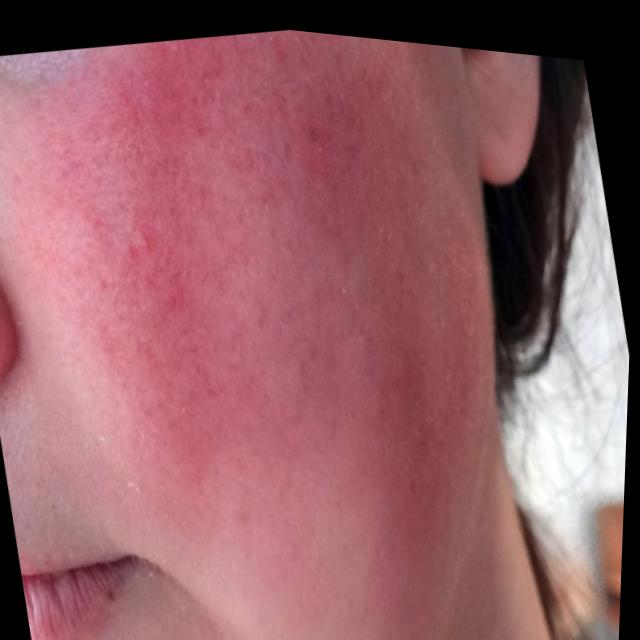skinredness: (61, 6, 513, 560)
vascular: (113, 203, 385, 480)
